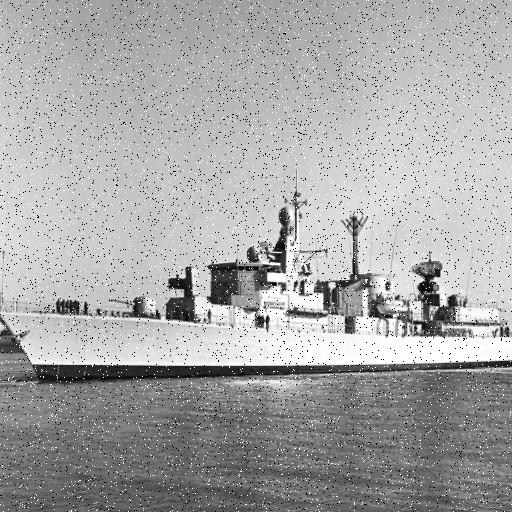Fragata: (1, 166, 512, 392)
